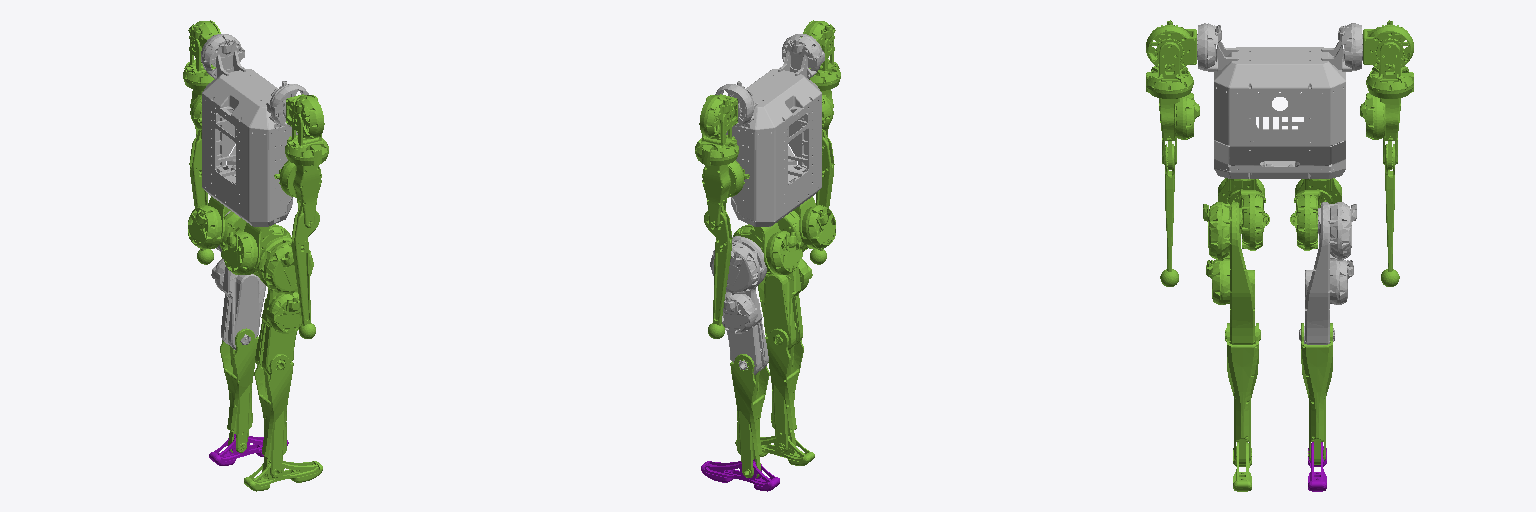
URDF robot description (humanoid):
<?xml version="1.0" encoding="utf-8"?>

<!-- URDF for MIT Humanoid
Version Specifics: "Reduced" and "Simple Foot"
Reduced: collision geometries only on feet, hands, and torso
Simple Foot: foot approximated as single box-contact -->

<robot
  name="humanoid">
  <link
    name="base">
    <inertial>
      <origin
        xyz="0.009598 0.000935 0.151714"
        rpy="0 0 0" />
      <mass value="7.954054" />
      <inertia
        ixx="0.168459"
        ixy="0.000124"
        ixz="0.006493"
        iyy="0.101358"
        iyz="0.000278"
        izz="0.091754" />
    </inertial>
    <visual>
      <origin
        xyz="0 0 0"
        rpy="0 0 0" />
      <geometry>
        <mesh
          filename="../meshes/torso.stl" scale="0.001 0.001 0.001" />
      </geometry>
      <material
        name="">
        <color
          rgba="0.752941176470588 0.752941176470588 0.752941176470588 1" />
      </material>
    </visual>
     <collision>
            <origin rpy="0 0 0" xyz="0.023 0. 0.08"/>
            <geometry>
                <box size="0.15 0.3 0.35"/>
            </geometry>
    </collision>
  </link>
  <link
    name="left_hip_yaw">
    <inertial>
      <origin
        xyz="-0.065362  -0.000128  -0.063947"
        rpy="0 0 0" />
      <mass value=" 0.842752" />
      <inertia
        ixx="0.001502 "
        ixy="0.000004 "
        ixz="0.000533"
        iyy="0.001361 "
        iyz="0.000000"
        izz="0.001170" />
    </inertial>
    <visual>
      <origin
        xyz="0 0 0"
        rpy="0 0 0" />
      <geometry>
        <mesh
          filename="../meshes/left_hip_yaw.stl" scale="0.001 0.001 0.001" />
      </geometry>
      <material
        name="">
        <color
          rgba="0.52941176470588 0.752941176470588 0.2941176470588 1" />
      </material>
    </visual>
  </link>
  <joint
    name="left_hip_yaw"
    type="revolute">
    <origin
      xyz="0 0.082 0"
      rpy="0 -0.174533 0" />
    <parent
      link="base" />
    <child
      link="left_hip_yaw" />
    <axis
      xyz="0 0 -1" />
    <limit effort="34" lower="-3" upper="3" velocity="48"/>
  </joint>
  <link
    name="left_hip_abad">
    <inertial>
      <origin
        xyz=" 0.067579  -0.013035 0.000132"
        rpy="0 0 0" />
      <mass value="1.199631" />
      <inertia
        ixx="0.001745 "
        ixy="0.000003 "
        ixz=" -0.000082"
        iyy="0.003338 "
        iyz=" -0.000010 "
        izz=" 0.001951" />
    </inertial>
    <visual>
      <origin
        xyz="0 0 0"
        rpy="0 0 0" />
      <geometry>
        <mesh
          filename="../meshes/left_hip_abad.stl" scale="0.001 0.001 0.001"/>
      </geometry>
      <material
        name="">
        <color
          rgba="0.52941176470588 0.752941176470588 0.2941176470588 1" />
      </material>
    </visual>
  </link>
  <joint
    name="left_hip_abad"
    type="revolute">
    <origin
      xyz="-0.06435 0 -.07499"
      rpy="0.0 0.436332 0.0"/>
    <parent
      link="left_hip_yaw" />
    <child
      link="left_hip_abad" />
    <axis
      xyz="1 0 0" />
          <limit effort="34" lower="-3" upper="3" velocity="48"/>
  </joint>
 <link 
    name="left_upper_leg">
    <inertial>
      <origin
        xyz=" -0.001100  0.026032 -0.078842"
        rpy="0 0 0" />
      <mass value="2.634789" />
      <inertia
        ixx="0.024489 "
        ixy="0.000068 "
        ixz=" 0.000512 "
        iyy="0.026049 "
        iyz="0.002657 "
        izz="0.003812 " />
    </inertial>
    <visual>
      <origin
        xyz="0 0 0"
        rpy="0 0 0" />
      <geometry>
        <mesh
          filename="../meshes/left_leg_upper.stl" scale="0.001 0.001 0.001" />
      </geometry>
      <material
        name="">
        <color
          rgba="0.752941176470588 0.752941176470588 0.752941176470588 1" />
      </material>
    </visual>
  </link>
  <joint
    name="left_hip_pitch"
    type="revolute">
    <origin
      xyz="0.08837 -0.00284 -0.01385"
      rpy="0 -0.261799 0" />
    <parent
      link="left_hip_abad" />
    <child
      link="left_upper_leg" />
    <axis
      xyz="0 1 0" />
          <limit effort="72" lower="-3" upper="3" velocity="40"/>
  </joint>

  <link
    name="left_lower_leg">
    <inertial>
      <origin
        xyz="0.005232 0.000457  -0.131581"
        rpy="0 0 0" />
      <mass value="0.346291" />
      <inertia
        ixx=" 0.002952 "
        ixy=" 0.0"
        ixz=" 0.000083"
        iyy=" 0.002943"
        iyz=" 0.000033"
        izz=" 0.000238" />
    </inertial>
    <visual>
      <origin
        xyz="0 0 0"
        rpy="0 0 0" />
      <geometry>
        <mesh
          filename="../meshes/left_leg_lower.stl" scale="0.001 0.001 0.001" />
      </geometry>
      <material
        name="">
        <color
          rgba="0.52941176470588 0.752941176470588 0.2941176470588 1" />
      </material>
    </visual>
  </link>
  <joint
    name="left_knee"
    type="revolute">
    <origin
      xyz="-0.01306 0.0 -0.24916"
      rpy="0 0 0" />
    <parent
      link="left_upper_leg" />
    <child
      link="left_lower_leg" />
    <axis
      xyz="0 1 0" />
          <limit effort="144" lower="0." upper="3." velocity="20"/>
  </joint>
  
   <link
    name="left_foot">
    <inertial>
      <origin
        xyz="0.022696 0.0 -0.013879 "
        rpy="0 0 0" />
      <mass value=" 0.279583" />
      <inertia
        ixx="0.000092"
        ixy="0.0"
        ixz="-0.000054 "
        iyy="0.08 "
        iyz="0.0 "
        izz="0.000769" />
    </inertial>
    <!-- Foot inertia Iyy default: 0.000806
    Modified to account for reflected motor inertia -->
    <visual>
      <origin
        xyz="0 0 0"
        rpy="0 0 0" />
      <geometry>
        <mesh
          filename="../meshes/left_foot.stl" scale="0.001 0.001 0.001"/>
      </geometry>
      <material
        name="">
        <color
          rgba="0.63671875 0.12109375 0.752941176470588 1" />
      </material>
    </visual>
    <collision>
        <origin rpy="1.57079 0 0" xyz="0.03 0.0 -0.03"/>
        <geometry>
            <box size="0.20 0.02 0.04"/>
        </geometry>
    </collision>
  </link>
  <joint
    name="left_ankle"
    type="revolute">
    <origin
      xyz="0.0 0.0 -0.2785"
      rpy="0 0 0" />
    <parent
      link="left_lower_leg" />
    <child
      link="left_foot" />
    <axis
      xyz="0 1 0" />
          <limit effort="68" lower="-1.5" upper="1.5" velocity="24"/>
  </joint>

 <link
    name="right_hip_yaw">
    <inertial>
      <origin
        xyz="-0.065362  0.000128  -0.063947"
        rpy="0 0 0" />
      <mass value=" 0.842752" />
      <inertia
        ixx="0.001502 "
        ixy="-0.000004 "
        ixz="-0.000533"
        iyy="0.001361 "
        iyz="0.000000"
        izz="0.001170" />
    </inertial>
    <visual>
      <origin
        xyz="0 0 0"
        rpy="0 0 0" />
      <geometry>
        <mesh
          filename="../meshes/left_hip_yaw.stl" scale="0.001 -0.001 0.001" />
      </geometry>
      <material
        name="">
        <color
          rgba="0.52941176470588 0.752941176470588 0.2941176470588 1" />
      </material>
    </visual>
  </link>
  <joint
    name="right_hip_yaw"
    type="revolute">
    <origin
      xyz="0 -0.082 0"
      rpy="0 -0.174533 0" />
    <parent
      link="base" />
    <child
      link="right_hip_yaw" />
    <axis
      xyz="0 0 1" />
    <limit effort="34" lower="-3" upper="3" velocity="48"/>
  </joint>
  
  <link
    name="right_hip_abad">
    <inertial>
      <origin
        xyz=" 0.067579  0.013035 0.000132"
        rpy="0 0 0" />
      <mass value="1.199631" />
      <inertia
        ixx="0.001745 "
        ixy="-0.000003 "
        ixz=" 0.000082"
        iyy="0.003338 "
        iyz=" -0.000010 "
        izz=" 0.001951" />
    </inertial>
    <visual>
      <origin
        xyz="0 0 0"
        rpy="0 0 0" />
      <geometry>
        <mesh
          filename="../meshes/left_hip_abad.stl" scale="0.001 -0.001 0.001"/>
      </geometry>
      <material
        name="">
        <color
          rgba="0.52941176470588 0.752941176470588 0.2941176470588 1" />
      </material>
    </visual>
  </link>
  <joint
    name="right_hip_abad"
    type="revolute">
    <origin
      xyz="-0.06435 0 -.07499"
      rpy="0.0 0.436332 0.0"/>
    <parent
      link="right_hip_yaw" />
    <child
      link="right_hip_abad" />
    <axis
      xyz="-1 0 0" />
          <limit effort="34" lower="-3" upper="3" velocity="48"/>
  </joint>
  
 <link
    name="right_upper_leg">
    <inertial>
      <origin
        xyz=" -0.001100  -0.026032 -0.078842"
        rpy="0 0 0" />
      <mass value="2.634789" />
      <inertia
        ixx="0.024489 "
        ixy="-0.000068 "
        ixz=" -0.000512 "
        iyy="0.026049 "
        iyz="0.002657 "
        izz="0.003812 " />
    </inertial>
    <visual>
      <origin
        xyz="0 0 0"
        rpy="0 0 0" />
      <geometry>
        <mesh
          filename="../meshes/left_leg_upper.stl" scale="0.001 -0.001 0.001" />
      </geometry>
      <material
        name="">
        <color
          rgba="0.52941176470588 0.752941176470588 0.2941176470588 1" />
      </material>
    </visual>
  </link>
  <joint
    name="right_hip_pitch"
    type="revolute">
    <origin
      xyz="0.08837 0.00284 -0.01385"
      rpy="0 -0.261799 0" />
    <parent
      link="right_hip_abad" />
    <child
      link="right_upper_leg" />
    <axis
      xyz="0 1 0" />
          <limit effort="72" lower="-3" upper="3" velocity="40"/>
  </joint>
  
  <link
    name="right_lower_leg">
    <inertial>
      <origin
        xyz="0.005232 -0.000457  -0.131581"
        rpy="0 0 0" />
      <mass value="0.346291" />
      <inertia
        ixx=" 0.002952 "
        ixy=" 0.0"
        ixz=" -0.000083"
        iyy=" 0.002943"
        iyz=" 0.000033"
        izz=" 0.000238" />
    </inertial>
    <visual>
      <origin
        xyz="0 0 0"
        rpy="0 0 0" />
      <geometry>
        <mesh
          filename="../meshes/left_leg_lower.stl" scale="0.001 -0.001 0.001" />
      </geometry>
      <material
        name="">
        <color
          rgba="0.52941176470588 0.752941176470588 0.2941176470588 1" />
      </material>
    </visual>
  </link>
  <joint
    name="right_knee"
    type="revolute">
    <origin
      xyz="-0.01306 0.0 -0.24916"
      rpy="0 0 0" />
    <parent
      link="right_upper_leg" />
    <child
      link="right_lower_leg" />
    <axis
      xyz="0 1 0" />
          <limit effort="144" lower="0." upper="3.0" velocity="20"/>
  </joint>
  
   <link
    name="right_foot">
    <inertial>
      <origin
        xyz="0.022696 0.0 -0.013879 "
        rpy="0 0 0" />
      <mass value=" 0.279583" />
      <inertia
        ixx="0.000092"
        ixy="0.0"
        ixz="0.000054 "
        iyy="0.08 "
        iyz="0.0 "
        izz="0.000769" />
    </inertial>
    <!-- Foot inertia Iyy default: 0.000806
    Modified to account for reflected motor inertia -->
    <visual>
      <origin
        xyz="0 0 0"
        rpy="0 0 0" />
      <geometry>
        <mesh
          filename="../meshes/left_foot.stl" scale="0.001 -0.001 0.001"/>
      </geometry>
      <material
        name="">
        <color
          rgba="0.52941176470588 0.752941176470588 0.2941176470588 1" />
      </material>
    </visual>
    <collision>
        <origin rpy="1.57079 0 0" xyz="0.03 0.0 -0.03"/>
        <geometry>
            <box size="0.20 0.02 0.04"/>
        </geometry>
    </collision>
  </link>
  <joint
    name="right_ankle"
    type="revolute">
    <origin
      xyz="0.0 0.0 -0.2785"
      rpy="0 0 0" />
    <parent
      link="right_lower_leg" />
    <child
      link="right_foot" />
    <axis
      xyz="0 1 0" />
          <limit effort="68" lower="-1.5" upper="1.5" velocity="24"/>
  </joint>

  <!-- Left Arm -->
  <link
    name="left_shoulder">
    <inertial>
      <origin
        xyz="0.009518 0.053027 0.000060"
        rpy="0 0 0" />
      <mass value="0.788506" />
      <inertia
        ixx="0.001363 "
        ixy="0.000024 "
        ixz=" -0.000002 "
        iyy="0.000759 "
        iyz="  0.000001"
        izz="  0.000866" />
    </inertial>
    <visual>
      <origin
        xyz="0 0 0"
        rpy="0 0 0" />
      <geometry>
        <mesh
          filename="../meshes/left_shoulder1.stl" scale="0.001 0.001 0.001"/>
      </geometry>
      <material
        name="">
        <color
          rgba="0.52941176470588 0.752941176470588 0.2941176470588 1" />
      </material>
    </visual>
  </link>
  <joint
    name="left_shoulder_pitch"
    type="revolute">
    <origin
      xyz="0.01911 0.17608 0.30392"
      rpy="0 0 0" />
    <parent
      link="base" />
    <child
      link="left_shoulder" />
    <axis
      xyz="0 1 0" />
          <limit effort="34" lower="-3" upper="3" velocity="48"/>
  </joint>
  
  <link
    name="left_shoulder_2">
    <inertial>
      <origin
        xyz="0.000117 0.000122 -0.082758"
        rpy="0 0 0" />
      <mass value="0.801249" />
      <inertia
        ixx=" 0.001136 "
        ixy="0.000001 "
        ixz="0.000016 "
        iyy="0.001175 "
        iyz=" 0.000001 "
        izz="0.001241 " />
    </inertial>
    <visual>
      <origin
        xyz="0 0 0"
        rpy="0 0 0" />
      <geometry>
        <mesh
          filename="../meshes/left_shoulder2.stl" scale="0.001 0.001 0.001"/>
      </geometry>
      <material
        name="">
        <color
          rgba="0.52941176470588 0.752941176470588 0.2941176470588 1" />
      </material>
    </visual>
  </link>
  <joint
    name="left_shoulder_abad"
    type="revolute">
    <origin
      xyz="0 .05760 0"
      rpy="0.0 0 0" />
    <parent
      link="left_shoulder" />
    <child
      link="left_shoulder_2" />
    <axis
      xyz="1 0 0" />
        <limit effort="34" lower="-3" upper="3" velocity="48"/>
  </joint>
  <!--  -->
  
  <link
    name="left_upper_arm">
    <inertial>
      <origin
        xyz="-0.000073 -0.016471  -0.063210"
        rpy="0 0 0" />
      <mass value="0.905588" />
      <inertia
        ixx=" 0.001353 "
        ixy="0.000002 "
        ixz="0.000001 "
        iyy="0.001804 "
        iyz="-0.000061 "
        izz="0.000796 " />
    </inertial>
    <visual>
      <origin
        xyz="0 0 0"
        rpy="0 0 0" />
      <geometry>
        <mesh
          filename="../meshes/left_shoulder3.stl" scale="0.001 0.001 0.001"/>
      </geometry>
      <material
        name="">
        <color
          rgba="0.52941176470588 0.752941176470588 0.2941176470588 1" />
      </material>
    </visual>
  </link>
  <joint
    name="left_shoulder_yaw"
    type="revolute">
    <origin
      xyz="0 0 -.10250"
      rpy="0.0 0 0" />
    <parent
      link="left_shoulder_2" />
    <child
      link="left_upper_arm" />
    <axis
      xyz="0 0 -1" />
        <limit effort="34" lower="-3" upper="3" velocity="48"/>
  </joint>

  
  <link
    name="left_lower_arm">
    <inertial>
      <origin
        xyz="-0.007103 -0.000073 -0.099203"
        rpy="0 0 0" />
      <mass value="0.348390" />
      <inertia
        ixx="0.003400 "
        ixy="0.0 "
        ixz="-0.000049 "
        iyy="0.003453 "
        iyz="-0.000002 "
        izz="0.000078 " />
    </inertial>
    <visual>
      <origin
        xyz="0 0 0"
        rpy="0 0 0" />
      <geometry>
        <mesh
          filename="../meshes/left_forearm.stl" scale="0.001 0.001 0.001"/>
      </geometry>
      <material
        name="">
        <color
          rgba="0.52941176470588 0.752941176470588 0.2941176470588 1" />
      </material>
    </visual>
  </link>
  <joint
    name="left_elbow"
    type="revolute">
    <origin
      xyz="0 0 -.15750"
      rpy="0 0 0.0" />
    <parent
      link="left_upper_arm" />
    <child
      link="left_lower_arm" />
    <axis
      xyz="0 1 0" />
        <limit effort="55" lower="-3" upper="3" velocity="30"/>
  </joint>
  <link
    name="left_hand">
    <inertial>
      <origin
        xyz="0.0 -0.0 -0.27"
        rpy="0 0 0" />
      <mass value="0.001" />
      <inertia
        ixx="0.0"
        ixy="0.0"
        ixz="0.0"
        iyy="0.0"
        iyz="0.0"
        izz="0.0" />
    </inertial>
      <collision>
        <origin rpy="1.57079 0 0" xyz="0.0 0.0 0."/>
        <geometry>
            <cylinder radius="0.025" length="0.015"/>
        </geometry>
    </collision>
  </link>
  <joint
    name="left_hand_link"
    type="fixed">
    <origin
      xyz="0 0 -0.27"
      rpy="0 0 0" />
    <parent
      link="left_lower_arm" />
    <child
      link="left_hand" />
  </joint>

  <!-- Right Arm -->
  <link
    name="right_shoulder">
    <inertial>
      <origin
        xyz="0.009518 -0.053027 0.000060"
        rpy="0 0 0" />
      <mass value="0.788506" />
      <inertia
        ixx="0.001363 "
        ixy="-0.000024 "
        ixz=" 0.000002 "
        iyy="0.000759 "
        iyz="  0.000001"
        izz="  0.000866" />
    </inertial>
    <visual>
      <origin
        xyz="0 0 0"
        rpy="0 0 0" />
      <geometry>
        <mesh
          filename="../meshes/left_shoulder1.stl" scale="0.001 -0.001 0.001"/>
      </geometry>
      <material
        name="">
        <color
          rgba="0.52941176470588 0.752941176470588 0.2941176470588 1" />
      </material>
    </visual>
  </link>
  <joint
    name="right_shoulder_pitch"
    type="revolute">
    <origin
      xyz="0.01911 -0.17608 0.30392"
      rpy="0 0 0" />
    <parent
      link="base" />
    <child
      link="right_shoulder" />
    <axis
      xyz="0 1 0" />
          <limit effort="34" lower="-3" upper="3" velocity="48"/>
  </joint>
  
  <link
    name="right_shoulder_2">
    <inertial>
      <origin
        xyz="0.000117 -0.000122 -0.082758"
        rpy="0 0 0" />
      <mass value="0.801249" />
      <inertia
        ixx=" 0.001136 "
        ixy="-0.000001 "
        ixz="-0.000016 "
        iyy="0.001175 "
        iyz=" 0.000001 "
        izz="0.001241 " />
    </inertial>
    <visual>
      <origin
        xyz="0 0 0"
        rpy="0 0 0" />
      <geometry>
        <mesh
          filename="../meshes/left_shoulder2.stl" scale="0.001 -0.001 0.001"/>
      </geometry>
      <material
        name="">
        <color
          rgba="0.52941176470588 0.752941176470588 0.2941176470588 1" />
      </material>
    </visual>
  </link>
  <joint
    name="right_shoulder_abad"
    type="revolute">
    <origin
      xyz="0 -.05760 0"
      rpy="0.0 0 0" />
    <parent
      link="right_shoulder" />
    <child
      link="right_shoulder_2" />
    <axis
      xyz="-1 0 0" />
        <limit effort="34" lower="-3" upper="3" velocity="48"/>
  </joint>
  <!--  -->
  
  <link
    name="right_upper_arm">
    <inertial>
      <origin
        xyz="-0.000073 0.016471  -0.063210"
        rpy="0 0 0" />
      <mass value="0.905588" />
      <inertia
        ixx=" 0.001353 "
        ixy="-0.000002 "
        ixz="-0.000001 "
        iyy="0.001804 "
        iyz="-0.000061 "
        izz="0.000796 " />
    </inertial>
    <visual>
      <origin
        xyz="0 0 0"
        rpy="0 0 0" />
      <geometry>
        <mesh
          filename="../meshes/left_shoulder3.stl" scale="0.001 -0.001 0.001"/>
      </geometry>
      <material
        name="">
        <color
          rgba="0.52941176470588 0.752941176470588 0.2941176470588 1" />
      </material>
    </visual>
  </link>
  <joint
    name="right_shoulder_yaw"
    type="revolute">
    <origin
      xyz="0 0 -.10250"
      rpy="0.0 0 0" />
    <parent
      link="right_shoulder_2" />
    <child
      link="right_upper_arm" />
    <axis
      xyz="0 0 1" />
        <limit effort="34" lower="-3" upper="3" velocity="48"/>
  </joint>

  
  <link
    name="right_lower_arm">
    <inertial>
      <origin
        xyz="-0.007103 -0.000073 -0.099203"
        rpy="0 0 0" />
      <mass value="0.348390" />
      <inertia
        ixx="0.003400 "
        ixy="0.0 "
        ixz="-0.000049 "
        iyy="0.003453 "
        iyz="-0.000002 "
        izz="0.000078 " />
    </inertial>
    <visual>
      <origin
        xyz="0 0 0"
        rpy="0 0 0" />
      <geometry>
        <mesh
          filename="../meshes/left_forearm.stl" scale="0.001 0.001 0.001"/>
      </geometry>
      <material
        name="">
        <color
          rgba="0.52941176470588 0.752941176470588 0.2941176470588 1" />
      </material>
    </visual>
        <!-- <collision>
            <origin rpy="1.57079 0 0" xyz="0.0 0.0 -0.27"/>
            <geometry>
                <cylinder radius="0.025" length="0.025"/>
            </geometry>
        </collision> -->
  </link>
  <joint
    name="right_elbow"
    type="revolute">
    <origin
      xyz="0 0 -.15750"
      rpy="0 0 0.0" />
    <parent
      link="right_upper_arm" />
    <child
      link="right_lower_arm" />
    <axis
      xyz="0 1 0" />
        <limit effort="55" lower="-3" upper="3" velocity="30"/>
  </joint>
    <link
    name="right_hand">
    <inertial>
      <origin
        xyz="0.0 -0.0 -0.27"
        rpy="0 0 0" />
      <mass value="0.001" />
      <inertia
        ixx="0.0"
        ixy="0.0"
        ixz="0.0"
        iyy="0.0"
        iyz="0.0"
        izz="0.0" />
    </inertial>
      <collision>
        <origin rpy="1.57079 0 0" xyz="0.0 0.0 0."/>
        <geometry>
            <cylinder radius="0.025" length="0.015"/>
        </geometry>
    </collision>
  </link>
  <joint
    name="right_hand_link"
    type="fixed">
    <origin
      xyz="0 0 -0.27"
      rpy="0 0 0" />
    <parent
      link="right_lower_arm" />
    <child
      link="right_hand" />
  </joint>




</robot>

--- Facts derived from the render (not from the file) ---
Views: 3 orthographic renders of the robot side by side, from view 1: azimuth 30°, elevation 25°; view 2: azimuth 150°, elevation 25°; view 3: azimuth 270°, elevation 25°.
Robot: humanoid — 21 links, 20 joints (18 revolute, 2 fixed); root link base; default pose: every joint at zero.
Links seen in each view (by area): view 1: base, right_upper_leg, right_lower_leg, left_lower_leg, left_upper_leg, right_lower_arm, right_upper_arm, right_hip_yaw, left_hip_yaw, right_shoulder_2, right_foot, right_shoulder (+4 smaller); view 2: base, left_upper_leg, left_lower_leg, right_lower_leg, right_upper_leg, left_lower_arm, left_upper_arm, left_hip_yaw, right_hip_yaw, left_shoulder_2, left_foot, left_shoulder (+4 smaller); view 3: base, left_upper_leg, right_upper_leg, left_lower_leg, right_lower_leg, left_upper_arm, right_upper_arm, left_shoulder_2, right_shoulder_2, left_shoulder, right_shoulder, left_hip_abad (+7 smaller).
Link boxes in pixels (left/top/right/bottom): base: left=201, top=34, right=308, bottom=226; right_upper_leg: left=255, top=236, right=313, bottom=374; right_lower_leg: left=254, top=354, right=293, bottom=477; left_lower_leg: left=220, top=328, right=258, bottom=452; left_upper_leg: left=211, top=211, right=265, bottom=349; right_lower_arm: left=291, top=211, right=319, bottom=338; right_upper_arm: left=274, top=160, right=321, bottom=227; right_hip_yaw: left=221, top=223, right=270, bottom=274; left_hip_yaw: left=188, top=196, right=228, bottom=248; right_shoulder_2: left=285, top=111, right=328, bottom=165; right_foot: left=244, top=459, right=322, bottom=491; right_shoulder: left=286, top=94, right=324, bottom=138; base: left=715, top=34, right=824, bottom=226; left_upper_leg: left=710, top=236, right=768, bottom=374; left_lower_leg: left=730, top=354, right=769, bottom=477; right_lower_leg: left=765, top=328, right=803, bottom=452; right_upper_leg: left=758, top=211, right=812, bottom=349; left_lower_arm: left=704, top=211, right=732, bottom=338; left_upper_arm: left=702, top=160, right=749, bottom=227; left_hip_yaw: left=753, top=223, right=802, bottom=274; right_hip_yaw: left=795, top=196, right=835, bottom=248; left_shoulder_2: left=695, top=111, right=738, bottom=165; left_foot: left=701, top=459, right=779, bottom=491; left_shoulder: left=699, top=94, right=737, bottom=138; base: left=1197, top=23, right=1362, bottom=178; left_upper_leg: left=1299, top=202, right=1356, bottom=344; right_upper_leg: left=1203, top=202, right=1260, bottom=344; left_lower_leg: left=1301, top=323, right=1332, bottom=464; right_lower_leg: left=1227, top=323, right=1258, bottom=464; left_upper_arm: left=1360, top=93, right=1400, bottom=169; right_upper_arm: left=1159, top=93, right=1199, bottom=169; left_shoulder_2: left=1366, top=42, right=1413, bottom=98; right_shoulder_2: left=1146, top=42, right=1193, bottom=98; left_shoulder: left=1363, top=20, right=1413, bottom=71; right_shoulder: left=1146, top=20, right=1196, bottom=71; left_hip_abad: left=1290, top=189, right=1331, bottom=250.
Size in the robot's own frame: 0.2421 by 0.5684 by 1.05 metres.
Meshes: 10 distinct files referenced, 19 mesh visuals loaded (10 binary STL).